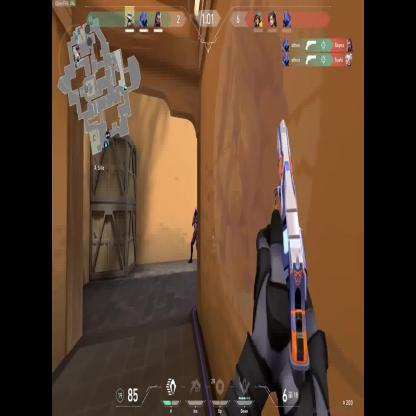enemy: (188, 207, 203, 262)
enemy_head: (194, 207, 198, 215)
